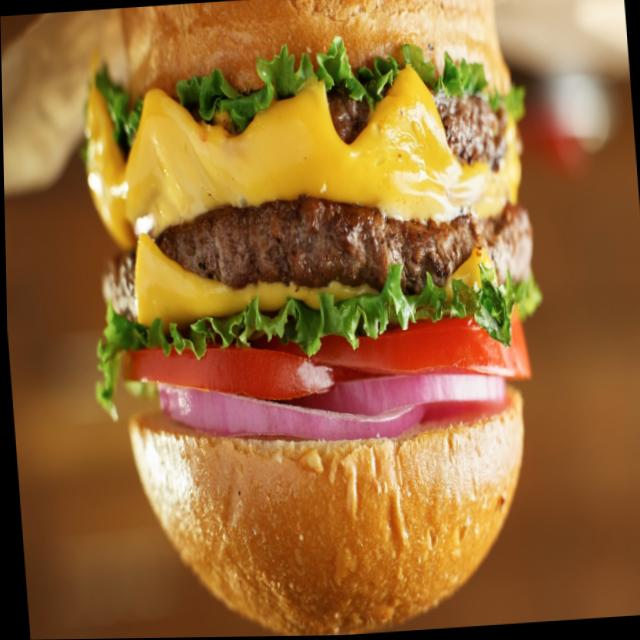burger: (65, 0, 557, 639)
